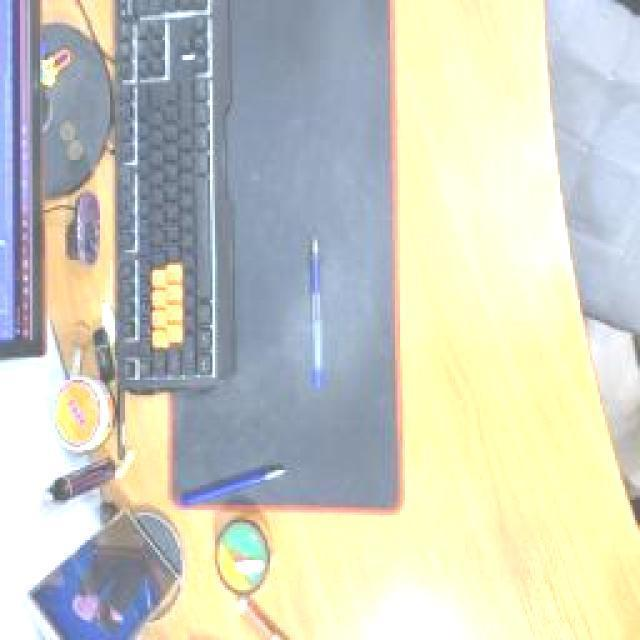pen: (310, 235, 325, 390)
